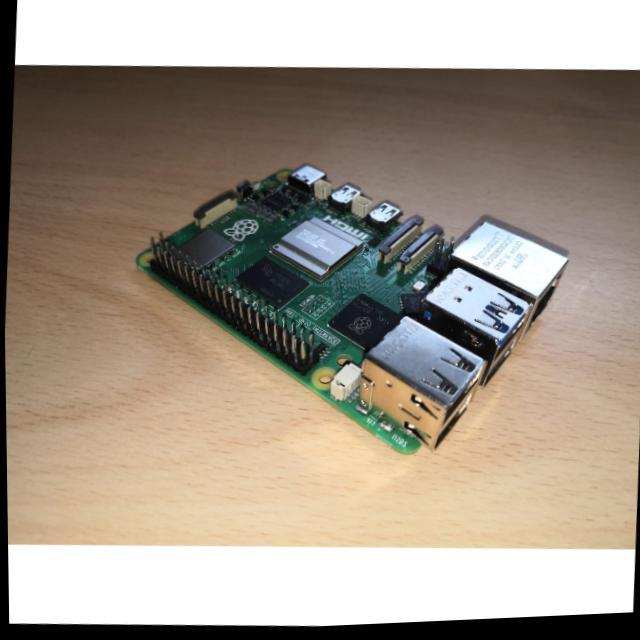Raspberry-Pi-5: (137, 165, 568, 454)
